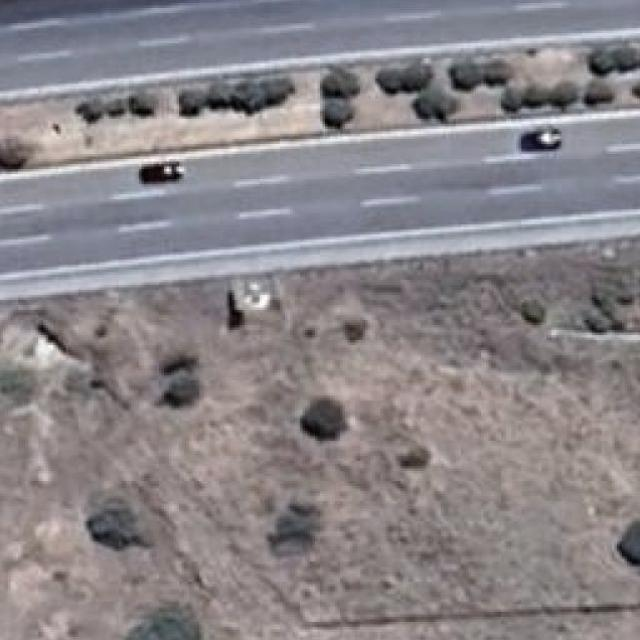Tree: (265, 501, 326, 559), (118, 599, 194, 640), (88, 504, 145, 557), (302, 393, 348, 442), (164, 373, 202, 415), (396, 436, 430, 472), (619, 515, 640, 569), (124, 88, 161, 118), (323, 98, 357, 130), (318, 72, 359, 98), (227, 76, 260, 108), (451, 58, 485, 88), (262, 74, 294, 105), (157, 345, 193, 372), (177, 86, 205, 118), (68, 98, 104, 122), (586, 48, 612, 76), (404, 62, 431, 88), (414, 94, 441, 120), (484, 54, 509, 82), (612, 46, 638, 72), (343, 313, 369, 339), (554, 78, 578, 106), (522, 298, 548, 323), (208, 82, 232, 108), (378, 66, 402, 92), (526, 84, 550, 110), (586, 82, 608, 105), (108, 96, 128, 118), (504, 84, 522, 108)
